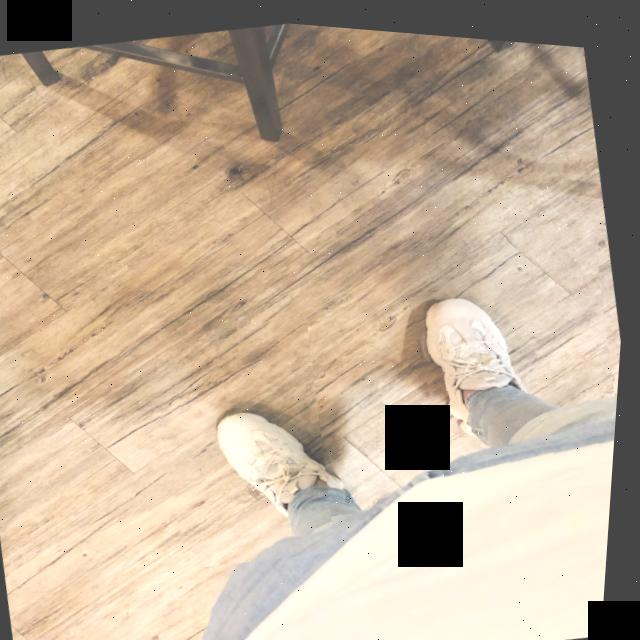shoe: (395, 205, 631, 486), (138, 298, 355, 577)
